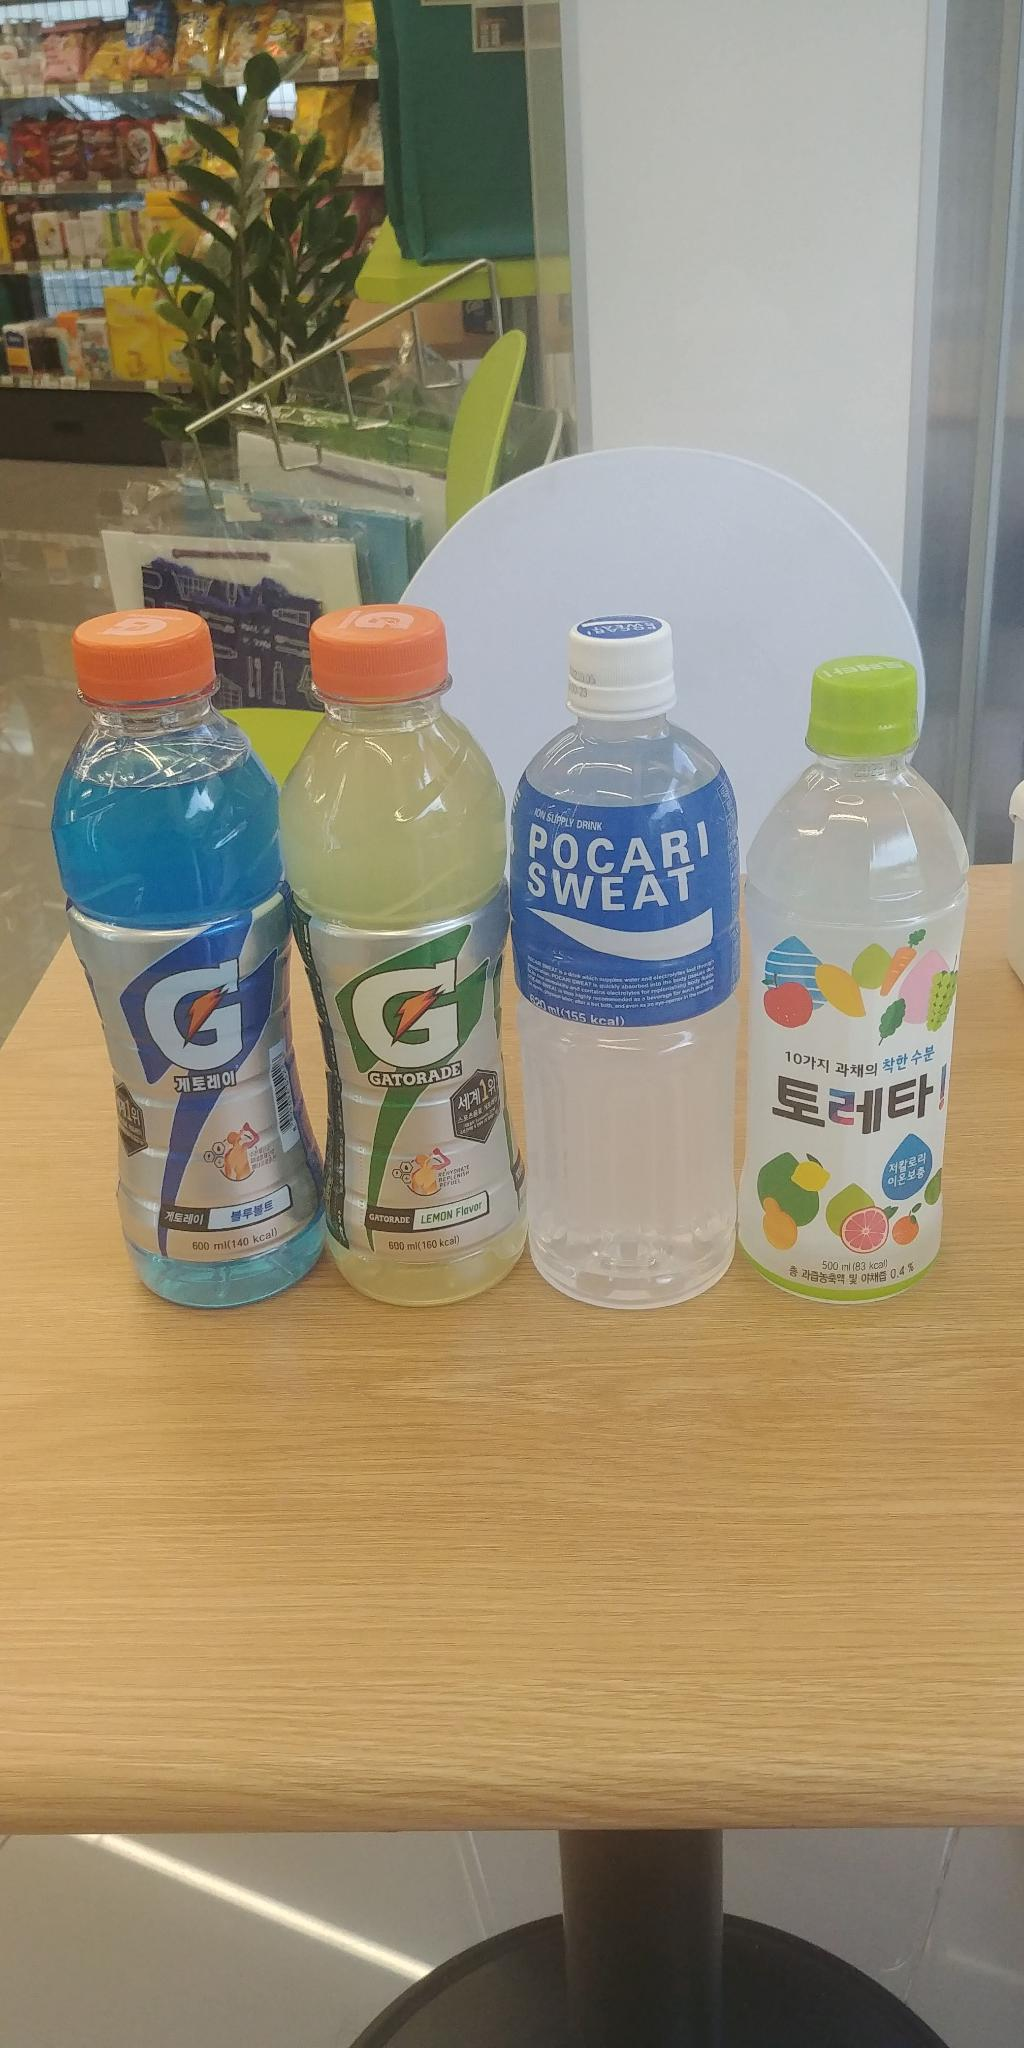gatorade_lemon: (269, 593, 543, 1306)
pocarisweat: (505, 607, 744, 1309)
toreta: (731, 649, 963, 1317)
